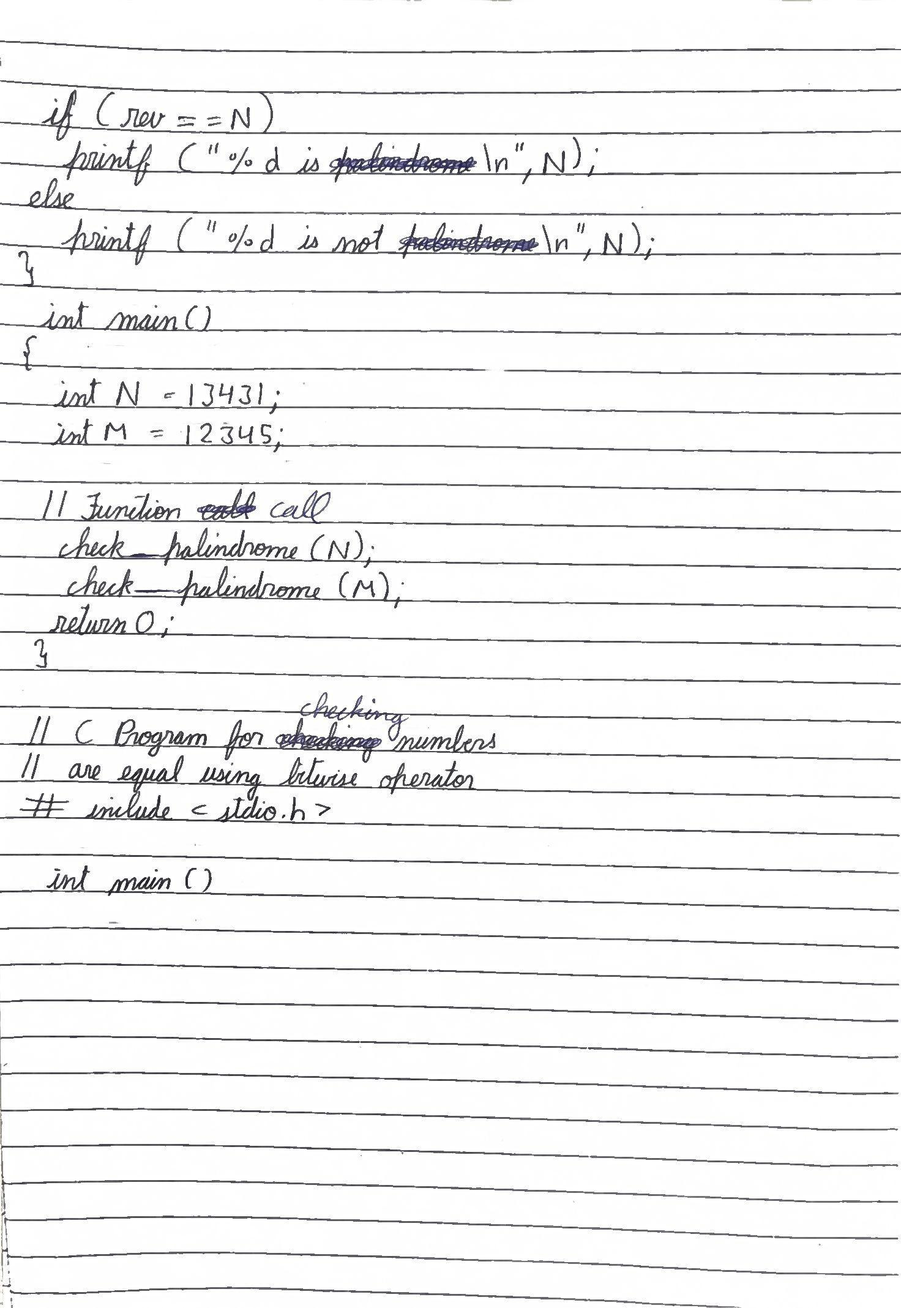cuttings: (327, 141, 475, 184), (397, 221, 540, 262), (273, 717, 383, 765), (196, 488, 258, 521)
